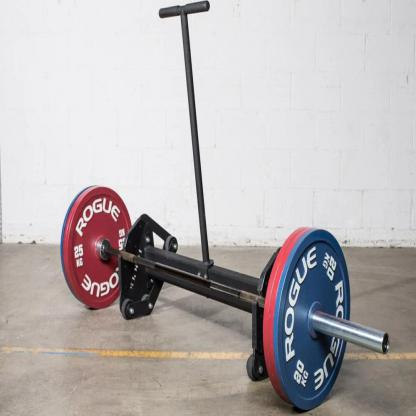Barbell: (261, 220, 360, 413)
